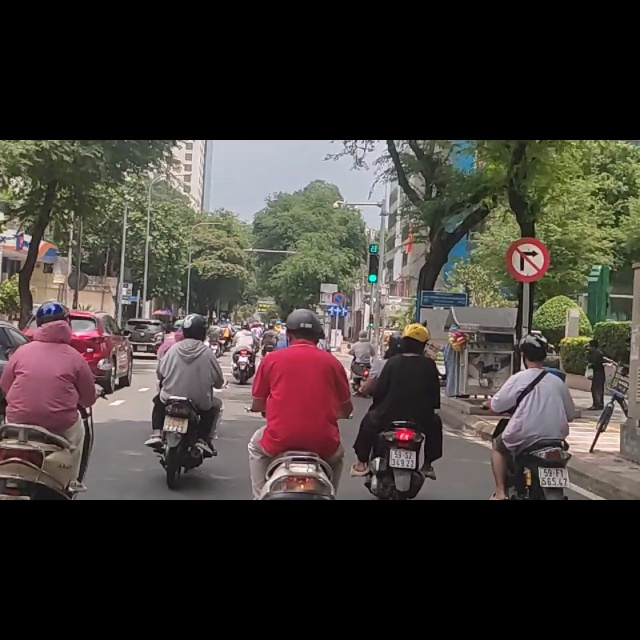bien_chi_dan: (504, 174, 548, 249), (331, 270, 345, 293)
